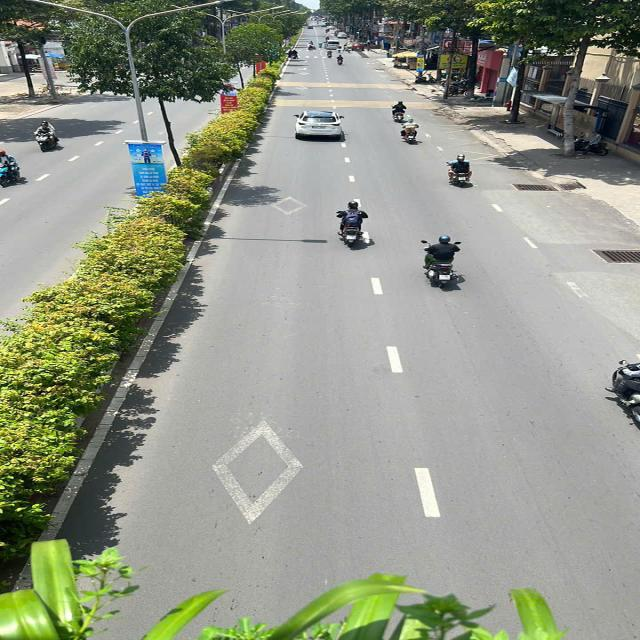car: (288, 105, 353, 146)
motobyte: (411, 227, 476, 293), (335, 196, 378, 253), (19, 114, 70, 153), (442, 154, 482, 192), (396, 114, 426, 148), (387, 97, 414, 126)
